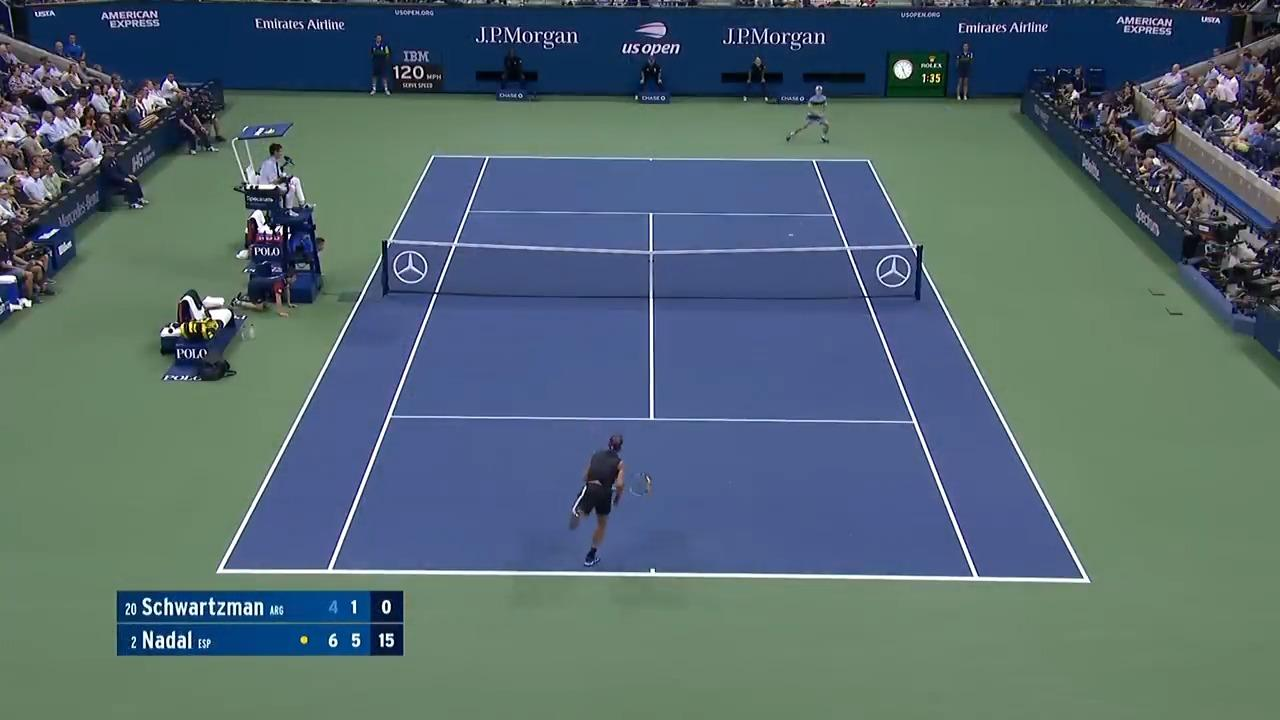tennis ball: (781, 229, 800, 241)
tennis racket: (625, 472, 652, 499)
